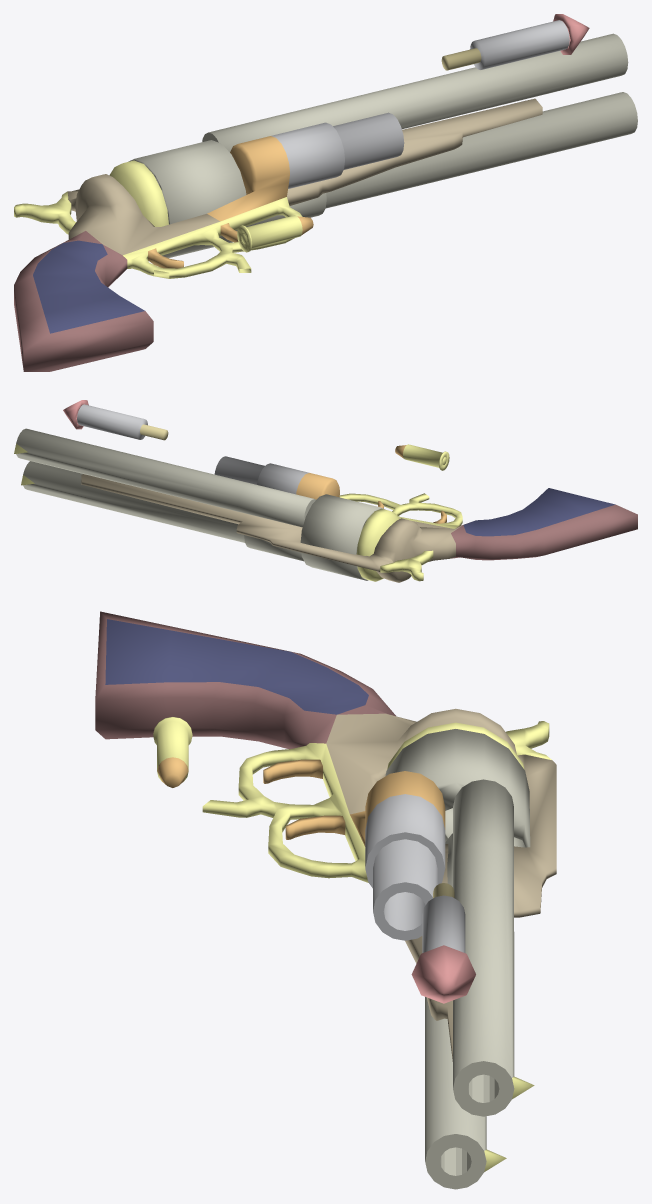
The model's file is steampunk_revolver.fbx.
3 renders of one model, top to bottom at view 1: azimuth 30°, elevation 25°; view 2: azimuth 150°, elevation 25°; view 3: azimuth 270°, elevation 25°, orthographic. The views are drawn at different scales.
Parts seen in each view (by area): view 1: Circle, barrels, flare_gun, cylinder, flare, rotary, pistol_cartridge, hammer, triggers; view 2: Circle, barrels, cylinder, flare_gun, flare, rotary, pistol_cartridge, hammer; view 3: Circle, barrels, flare_gun, cylinder, flare, pistol_cartridge, triggers, hammer, rotary.
Part boxes in pixels (x1=…): Circle: x1=14, y1=98, x2=542, y2=371; barrels: x1=202, y1=33, x2=637, y2=226; flare_gun: x1=207, y1=112, x2=404, y2=221; cylinder: x1=128, y1=140, x2=246, y2=258; flare: x1=441, y1=14, x2=589, y2=70; rotary: x1=109, y1=160, x2=168, y2=261; pistol_cartridge: x1=237, y1=215, x2=313, y2=252; hammer: x1=14, y1=191, x2=76, y2=234; triggers: x1=148, y1=223, x2=238, y2=268; Circle: x1=81, y1=474, x2=637, y2=582; barrels: x1=14, y1=428, x2=315, y2=561; cylinder: x1=300, y1=494, x2=384, y2=580; flare_gun: x1=214, y1=456, x2=339, y2=499; flare: x1=63, y1=400, x2=168, y2=440; rotary: x1=356, y1=508, x2=398, y2=581; pistol_cartridge: x1=395, y1=444, x2=449, y2=470; hammer: x1=380, y1=550, x2=433, y2=581; Circle: x1=95, y1=611, x2=556, y2=1061; barrels: x1=425, y1=779, x2=534, y2=1189; flare_gun: x1=350, y1=771, x2=445, y2=940; cylinder: x1=385, y1=729, x2=530, y2=847; flare: x1=411, y1=883, x2=475, y2=1003; pistol_cartridge: x1=153, y1=717, x2=192, y2=787; triggers: x1=263, y1=759, x2=345, y2=839; hammer: x1=506, y1=721, x2=551, y2=759; rotary: x1=387, y1=722, x2=524, y2=769.
Size of the model in its own units: 139 by 26.6 by 53.53.
